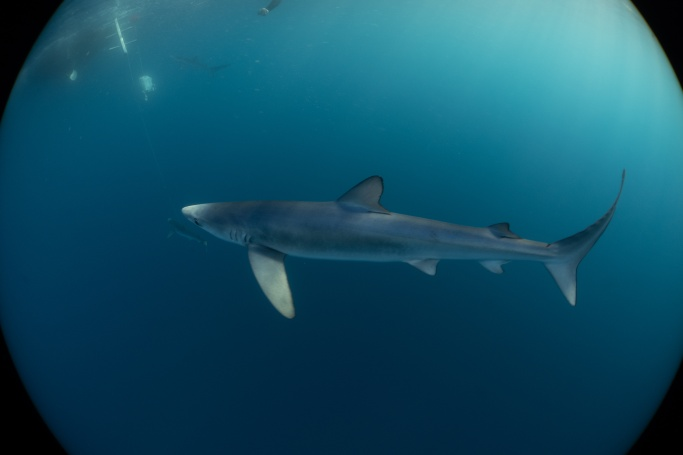Azul: (137, 106, 657, 350)
